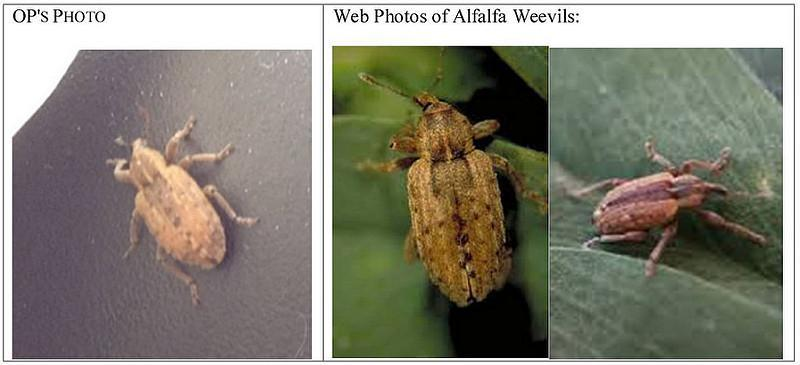weevils: (332, 47, 549, 352), (81, 95, 293, 326), (552, 104, 781, 302)
